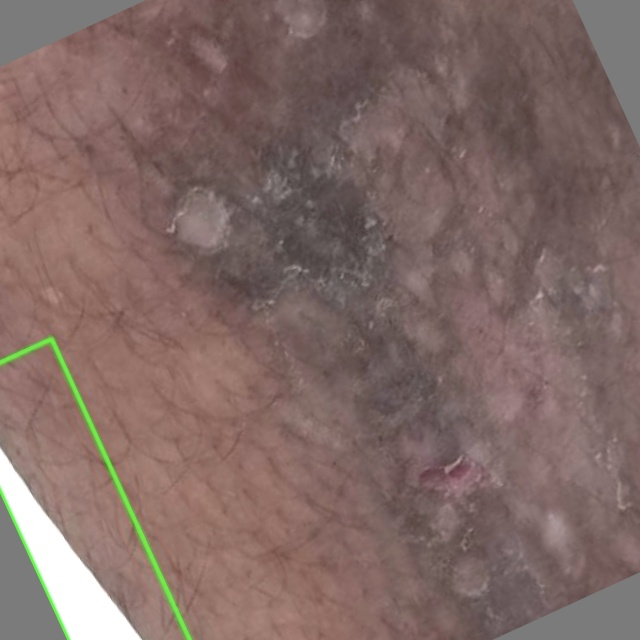Eczema: (0, 338, 189, 639)
